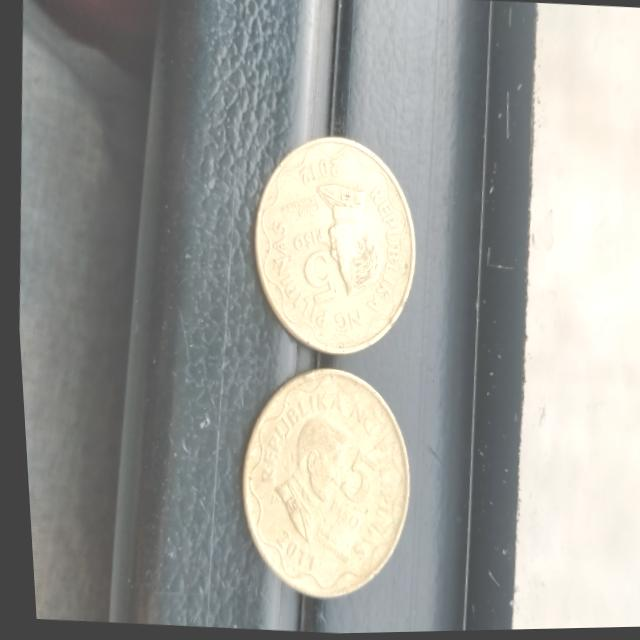5_Old_Front: (279, 218, 340, 320), (315, 445, 376, 530)
